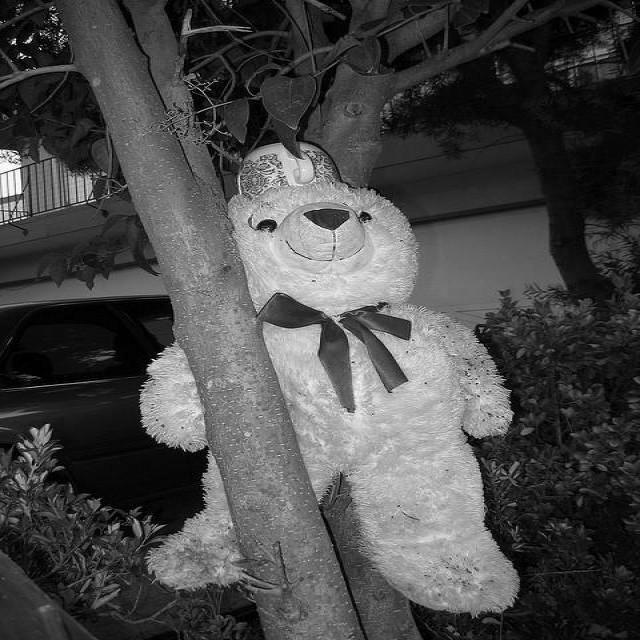vehicle: (0, 293, 213, 525)
